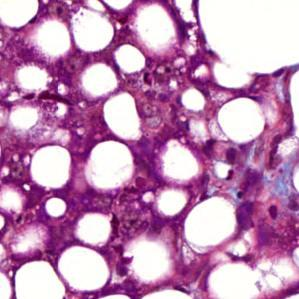steatosis: (181, 200, 243, 249), (83, 141, 138, 194), (213, 97, 272, 144), (67, 11, 115, 54)
